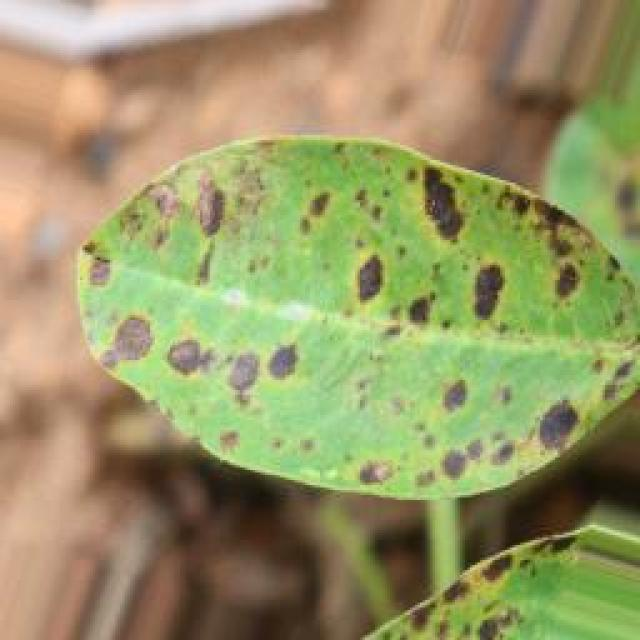Yellowish: (72, 137, 640, 481), (283, 505, 575, 640)
